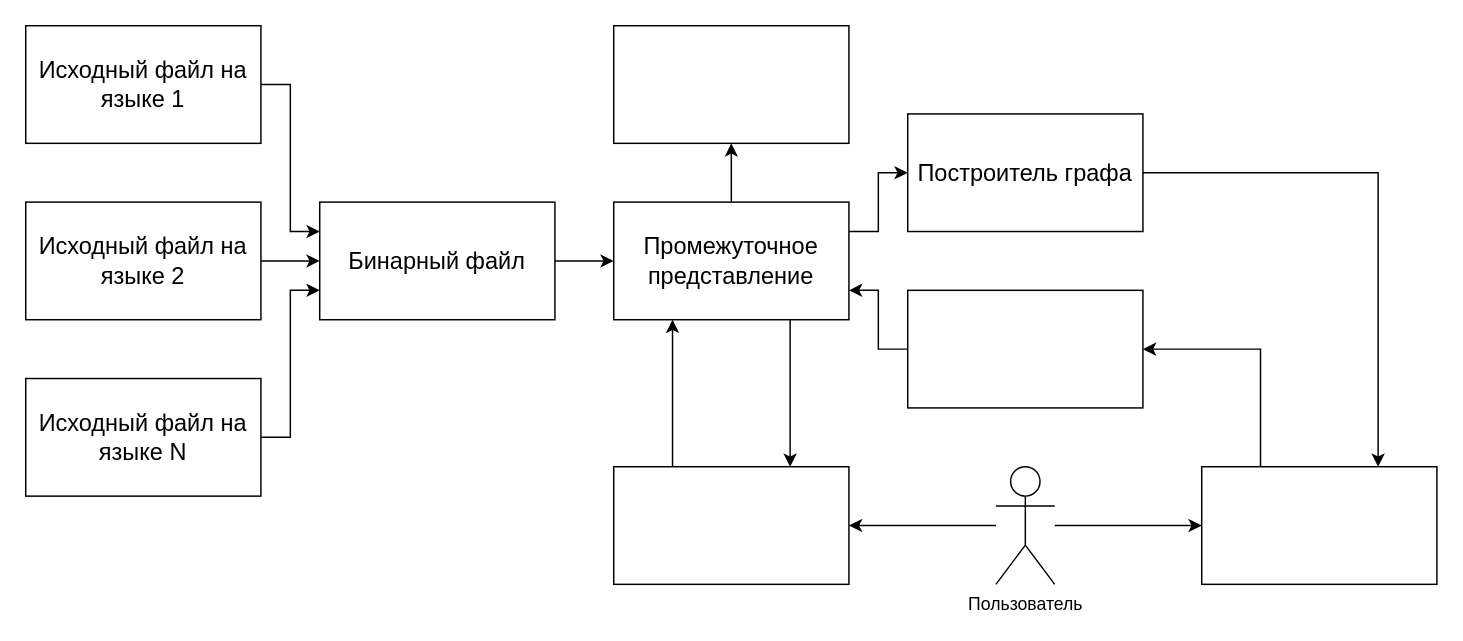
Some shapes in this 1463 by 641 pixel diagram are drawn without their labels. The shapes that lost their labels are listed below. From the top down, each one's centre as x and y in pixels, then its label:
(730,83): Измененный бинарный файл
(1024,348): Генератор байткода
(730,524): API языковых абстракций
(1318,524): API графа инструкций
